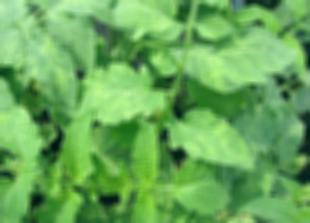Tomato leaf mosaic virus: (183, 24, 297, 91), (54, 60, 165, 124), (165, 108, 258, 173), (43, 6, 102, 77), (26, 37, 79, 114), (170, 162, 236, 218), (60, 107, 101, 184), (0, 102, 44, 173), (112, 0, 181, 45), (0, 168, 41, 223), (131, 117, 163, 186), (239, 191, 299, 223), (132, 188, 161, 223), (195, 16, 231, 42)
